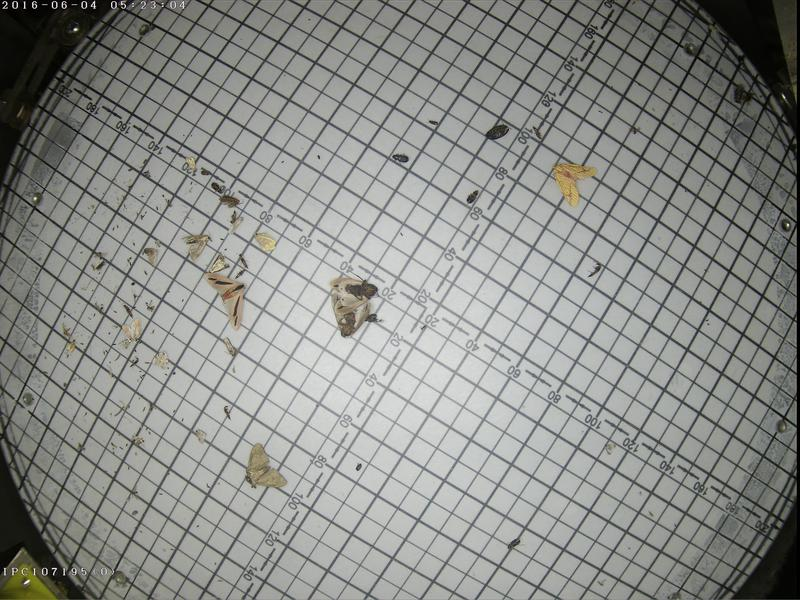Rice Leaf Roller: (207, 253, 228, 270)
